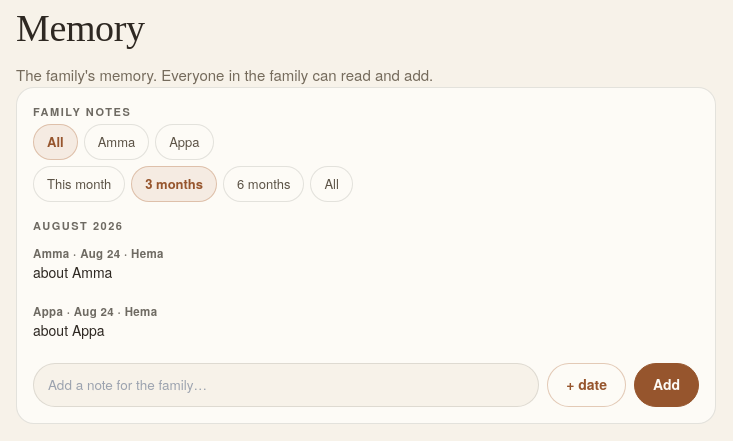
Test: the filters on the Memory screen › narrows to one parent when that chip is chosen
This screenshot has width=733, height=441.
Click the radio button with test id "notes-parent-filter-option" showing "Amma": point(116, 142) [84, 124, 149, 160]
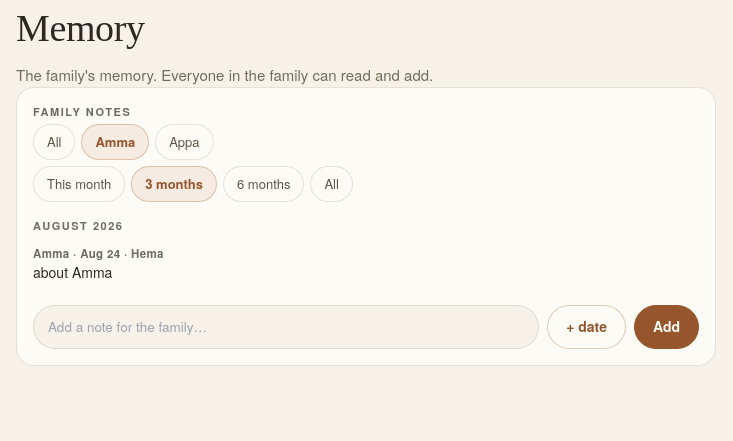
Expected: the text "about Amma" is shown, [33, 262, 112, 282]
Expected: the text "about Appa" is gone
